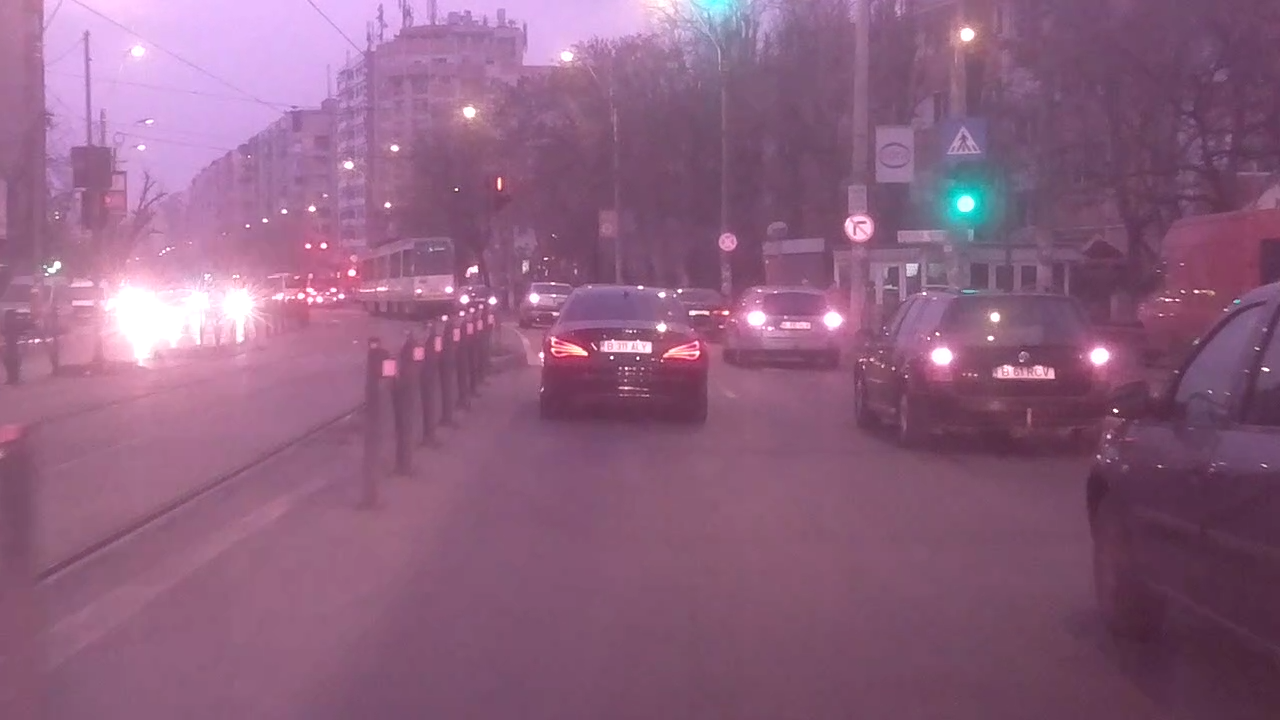license-plate: (989, 363, 1058, 381), (595, 338, 654, 356)
